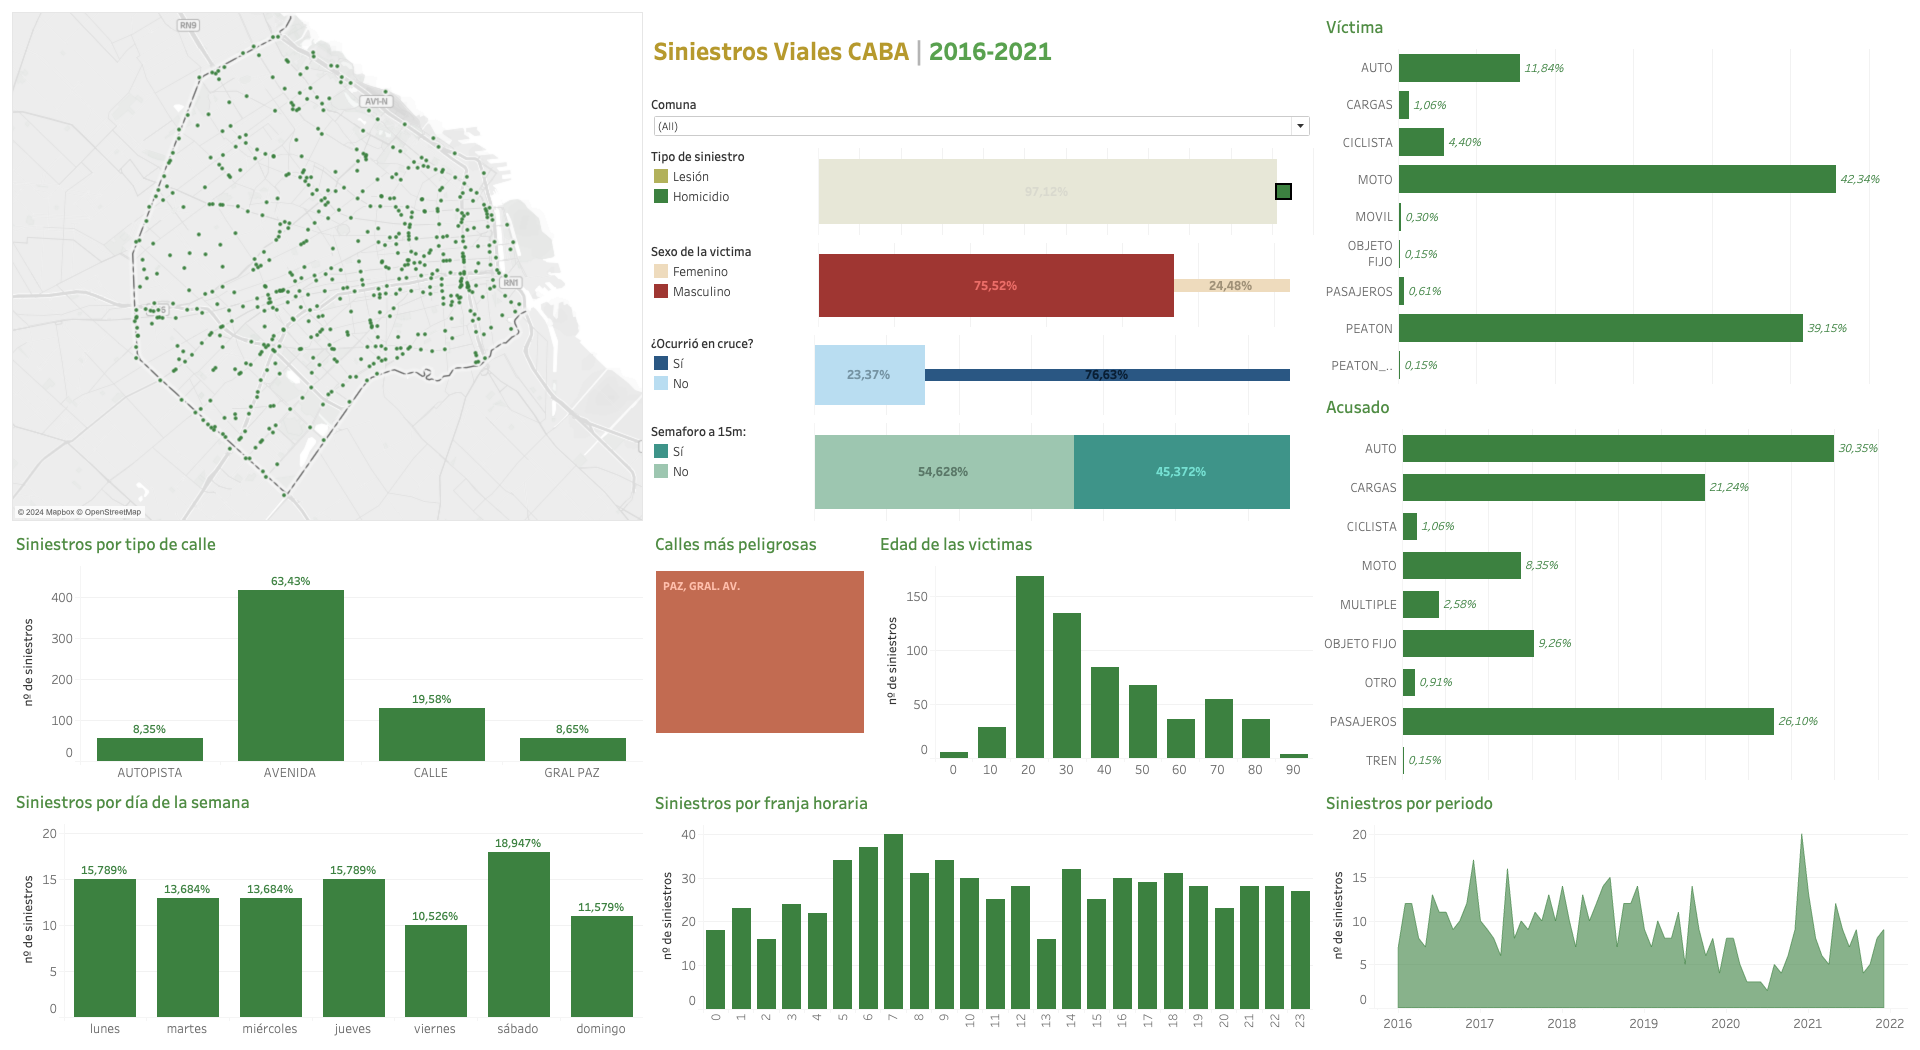

Layout of this report page (visuals, bound fields, positions):
{"tool":"tableau","page":{"name":"Tablero 1","canvas":[1000,1000],"units":"permille","ordinal":1},"visuals":[{"type":"worksheet","title":"mapa","mark":"Automatic","rows":["Latitud"],"cols":["Longitud"],"box":[5.1,9.1,332.6,490.9]},{"type":"title","box":[337.6,9.1,348.5,80.3]},{"type":"worksheet","title":"victima","mark":"Automatic","rows":["Victima"],"cols":["Id"],"box":[686.1,9.1,308.8,360.9]},{"type":"filter","title":"mapa","param":"[federated.0k5duec1688vot1citf2f15isno2].[none:Comuna:nk]","box":[337.6,89.3,348.5,48.8]},{"type":"legend","title":"datset","param":"[federated.0k5duec1688vot1citf2f15isno2].[none:Dataset:nk]","box":[337.6,138.1,86.4,89.9]},{"type":"worksheet","title":"datset","mark":"Automatic","cols":["Id"],"box":[424,138.1,262.1,89.9]},{"type":"legend","title":"sexo","param":"[federated.0k5duec1688vot1citf2f15isno2].[none:Sexo:nk]","box":[337.6,228,86.4,87.4]},{"type":"worksheet","title":"sexo","mark":"Automatic","cols":["Id"],"box":[424,228,262.1,87.4]},{"type":"legend","title":"cruce","param":"[federated.0k5duec1688vot1citf2f15isno2].[none:Cruce:nk]","box":[337.6,315.4,84.4,84]},{"type":"worksheet","title":"cruce","mark":"Automatic","cols":["Id"],"box":[422.1,315.4,264.1,84]},{"type":"worksheet","title":"acusado","mark":"Automatic","rows":["Acusado"],"cols":["Id"],"box":[686.1,370,308.8,375.7]},{"type":"legend","title":"semaforo","param":"[federated.0k5duec1688vot1citf2f15isno2].[none:semaforo_15m:nk]","box":[337.6,399.4,84.3,101.1]},{"type":"worksheet","title":"semaforo","mark":"Automatic","cols":["Id"],"box":[421.9,399.4,264.3,101.1]},{"type":"worksheet","title":"tipo de calle","mark":"Automatic","rows":["Id"],"cols":["Tipo_Calle"],"box":[5.1,500,332.6,245.5]},{"type":"worksheet","title":"callespeligrosas","mark":"Automatic","box":[337.6,500.6,143,245.2]},{"type":"worksheet","title":"edad","mark":"Automatic","rows":["Id"],"cols":["Edad (bin)"],"box":[480.6,500.6,205.5,245.2]},{"type":"worksheet","title":"siniestrosxdia","mark":"Bar","rows":["Id"],"cols":["Fecha"],"box":[5.1,745.5,332.6,245.5]},{"type":"worksheet","title":"franja horaria","mark":"Automatic","rows":["Id"],"cols":["Franja_Hora"],"box":[337.6,745.7,348.5,245.2]},{"type":"worksheet","title":"siniestros/mes","mark":"Area","rows":["Id"],"cols":["Fecha"],"box":[686.1,745.7,308.8,245.2]}]}

Visuals, with their boxes on the dashboard's canvas, which has no fixed pixel size, in thousandths of its width and height (x1, y1, x2, y2). These are canvas units, not pixel positions in the 1920x1050 screenshot, which may show the page scaled, cropped or inside an application window:
"mapa" worksheet: [5, 9, 338, 500]
title: [338, 9, 686, 89]
"victima" worksheet: [686, 9, 995, 370]
"mapa" filter: [338, 89, 686, 138]
"datset" legend: [338, 138, 424, 228]
"datset" worksheet: [424, 138, 686, 228]
"sexo" legend: [338, 228, 424, 315]
"sexo" worksheet: [424, 228, 686, 315]
"cruce" legend: [338, 315, 422, 399]
"cruce" worksheet: [422, 315, 686, 399]
"acusado" worksheet: [686, 370, 995, 746]
"semaforo" legend: [338, 399, 422, 500]
"semaforo" worksheet: [422, 399, 686, 500]
"tipo de calle" worksheet: [5, 500, 338, 746]
"callespeligrosas" worksheet: [338, 501, 481, 746]
"edad" worksheet: [481, 501, 686, 746]
"siniestrosxdia" worksheet (Bar marks): [5, 746, 338, 991]
"franja horaria" worksheet: [338, 746, 686, 991]
"siniestros/mes" worksheet (Area marks): [686, 746, 995, 991]
